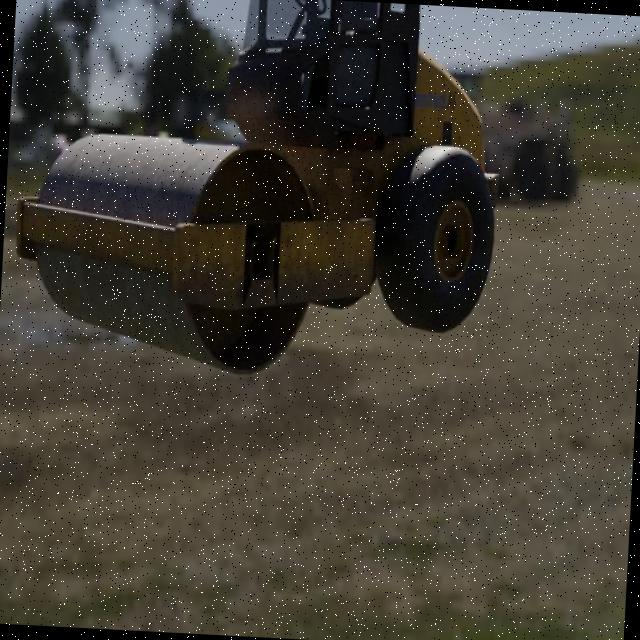Roller: (8, 0, 508, 390)
